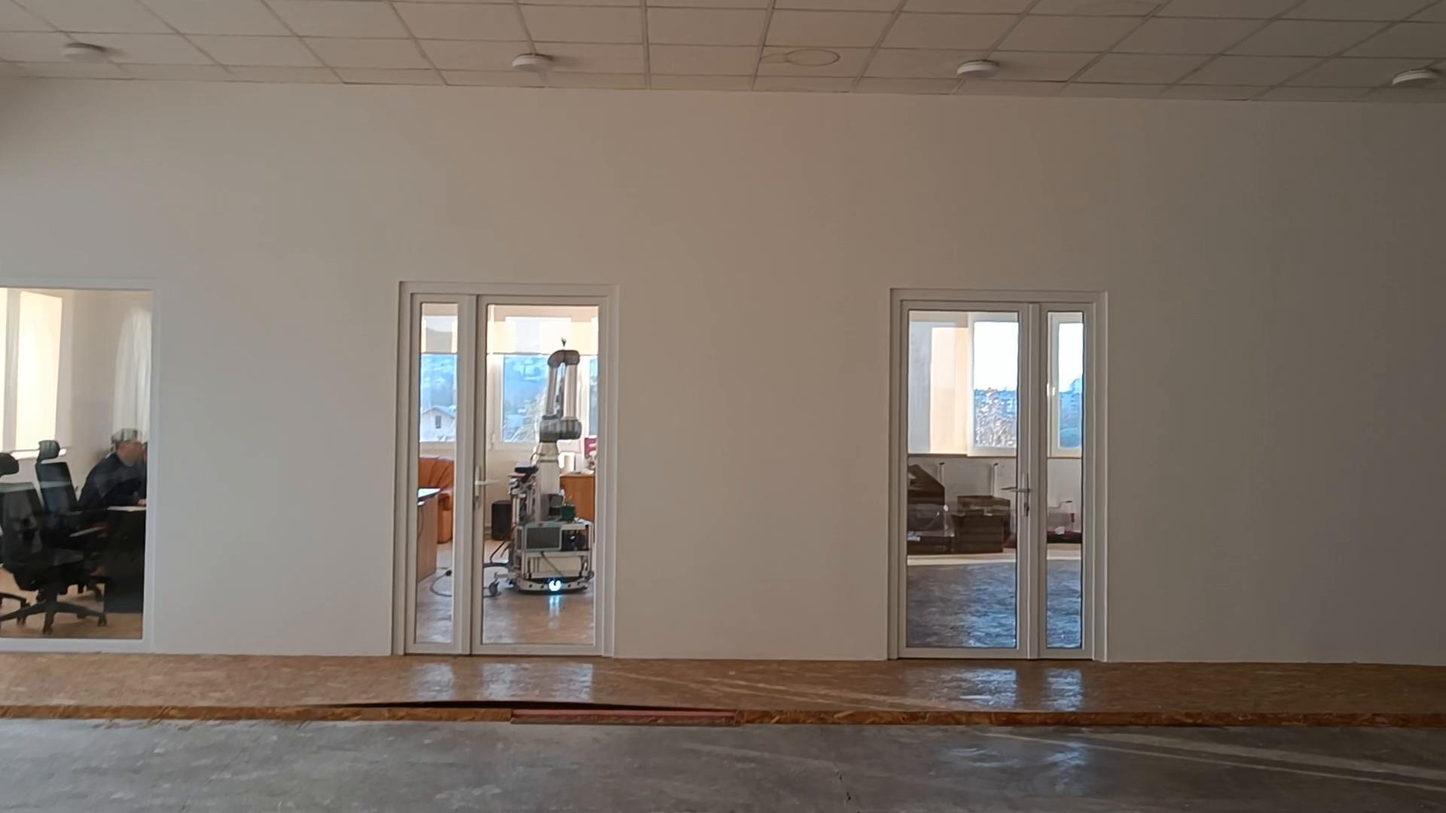ceiling: (0, 1, 1443, 104)
floor: (4, 652, 1440, 812)
wall: (4, 75, 1445, 661)
